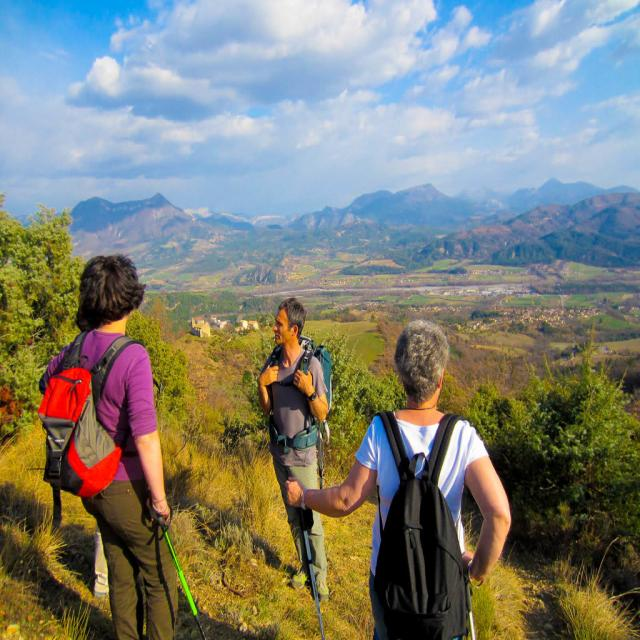backpack: (373, 402, 468, 639), (46, 329, 141, 501), (266, 338, 332, 452)
